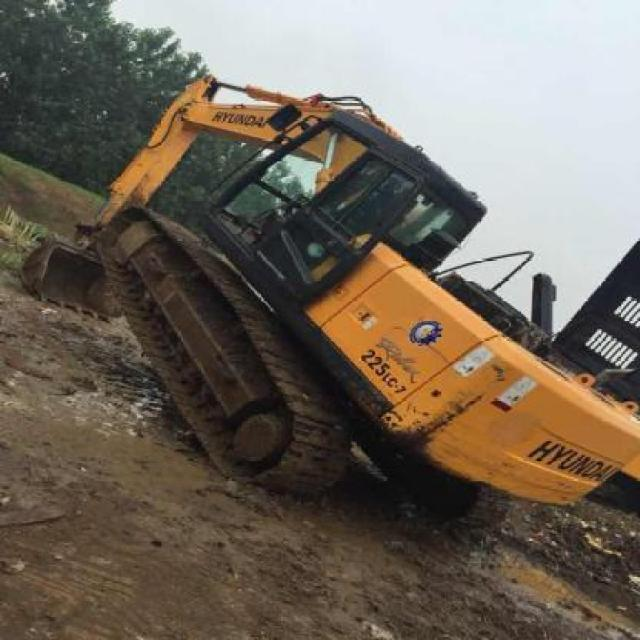Excavator: (16, 72, 639, 519)
